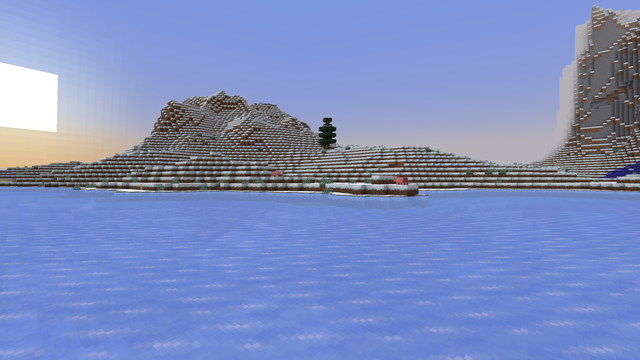cochons: (395, 177, 407, 186), (270, 171, 278, 175)
